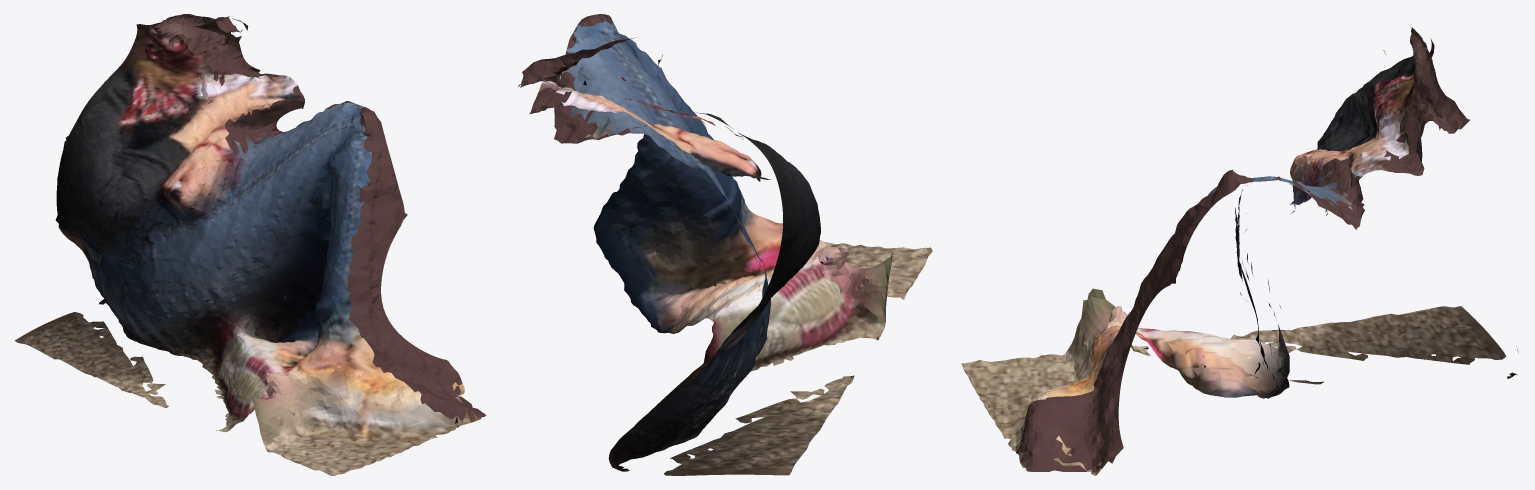
3 views of the same model, side by side, from view 1: azimuth 30°, elevation 25°; view 2: azimuth 150°, elevation 25°; view 3: azimuth 270°, elevation 25° (orthographic). The views are drawn at different scales.
Size of the model in its own units: 0.5188 by 0.5262 by 0.7484.
1 material, 1 textured.
